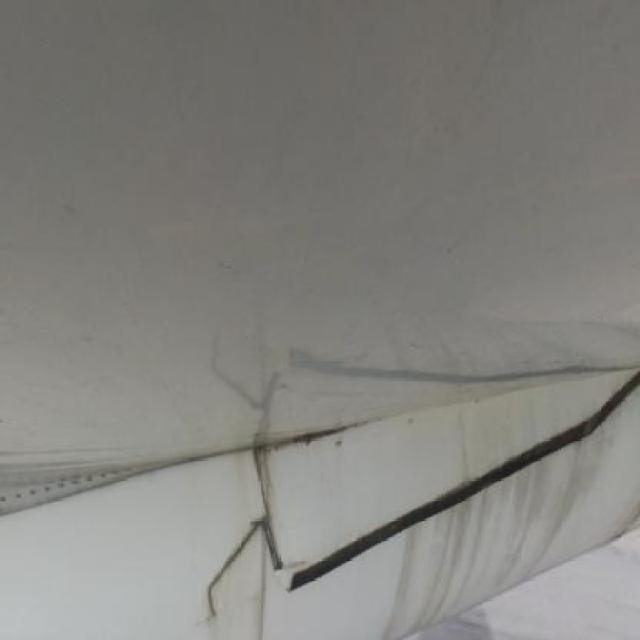Rust: (370, 411, 628, 640), (172, 435, 300, 640), (2, 448, 138, 522)
